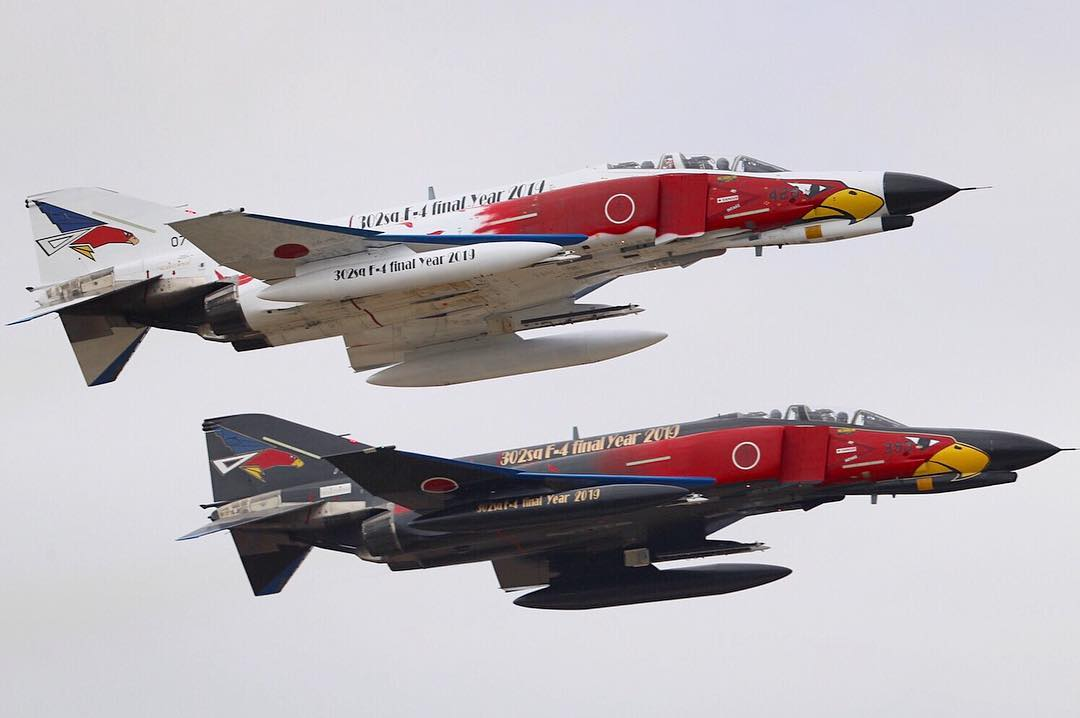F4: (2, 151, 994, 388), (174, 402, 1080, 611)
